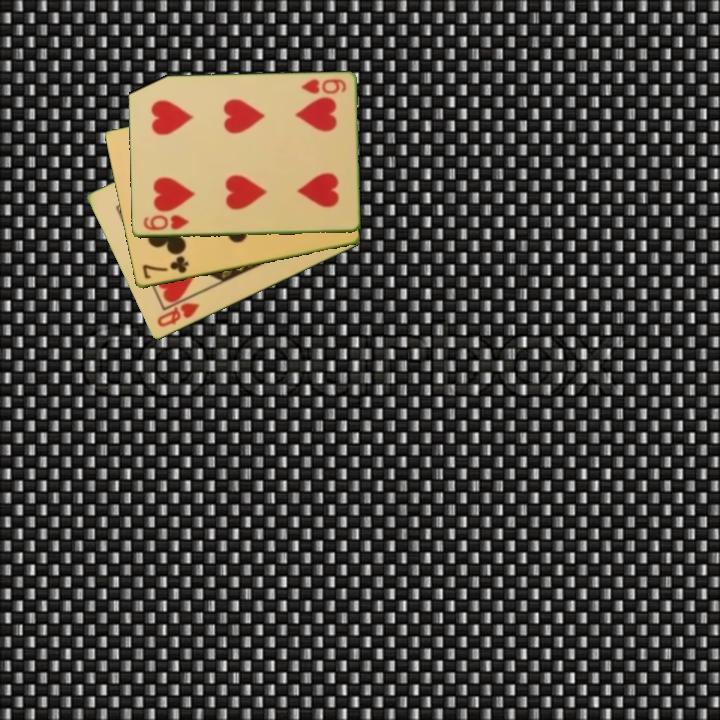6h: (139, 211, 192, 234), (297, 76, 349, 97)
7c: (139, 253, 191, 282)
Qh: (153, 299, 203, 331)
